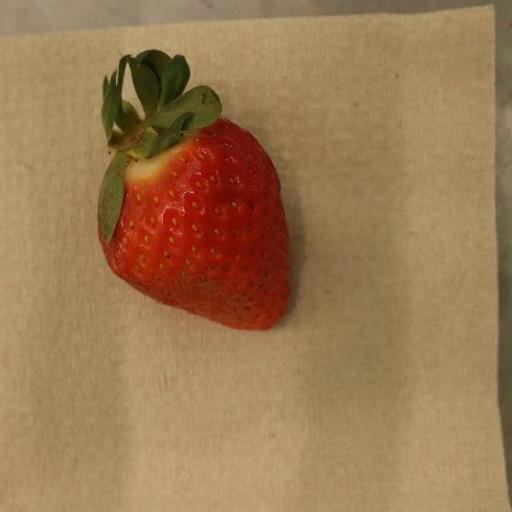Strawberry: (97, 50, 290, 332)
